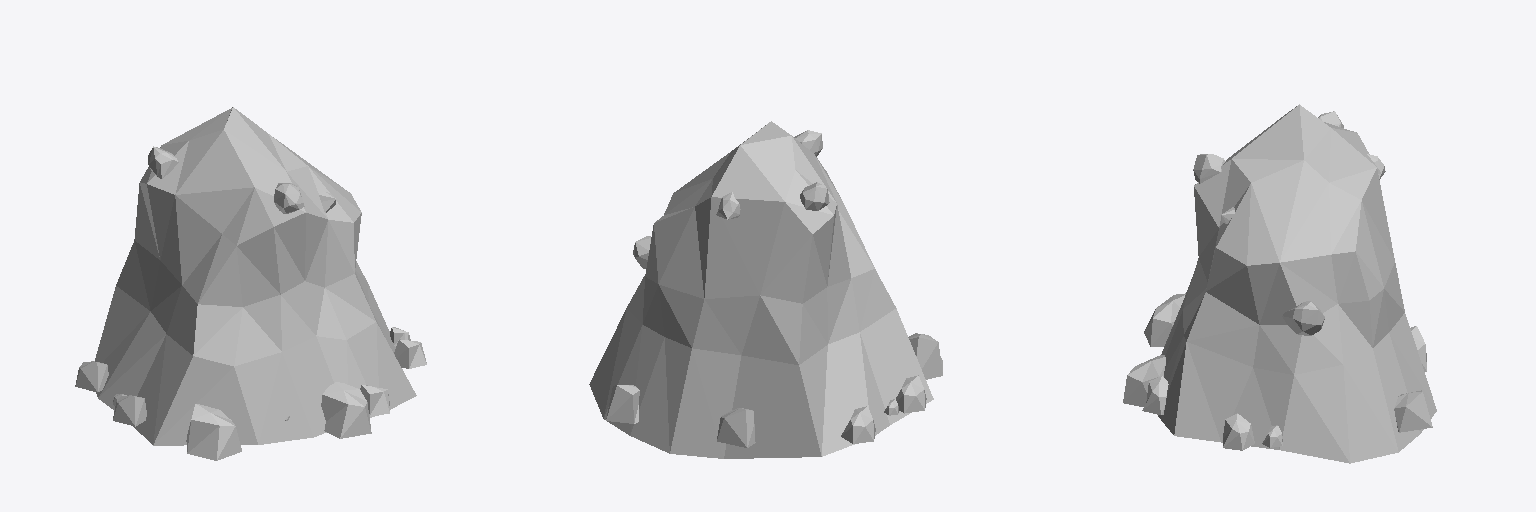
Rendered from obstacle1-2.obj.
3 renders of one model, left to right at view 1: azimuth 30°, elevation 25°; view 2: azimuth 150°, elevation 25°; view 3: azimuth 270°, elevation 25°, orthographic.
Visible parts, largest first — view 1: Cube.010_Cube.045; view 2: Cube.010_Cube.045; view 3: Cube.010_Cube.045.
Part boxes in pixels (bbox=[...]): Cube.010_Cube.045: bbox=[75, 107, 426, 460]; Cube.010_Cube.045: bbox=[589, 121, 942, 458]; Cube.010_Cube.045: bbox=[1123, 104, 1436, 463].
Bounding box in the file's own units: 3.81 × 3.52 × 3.45.